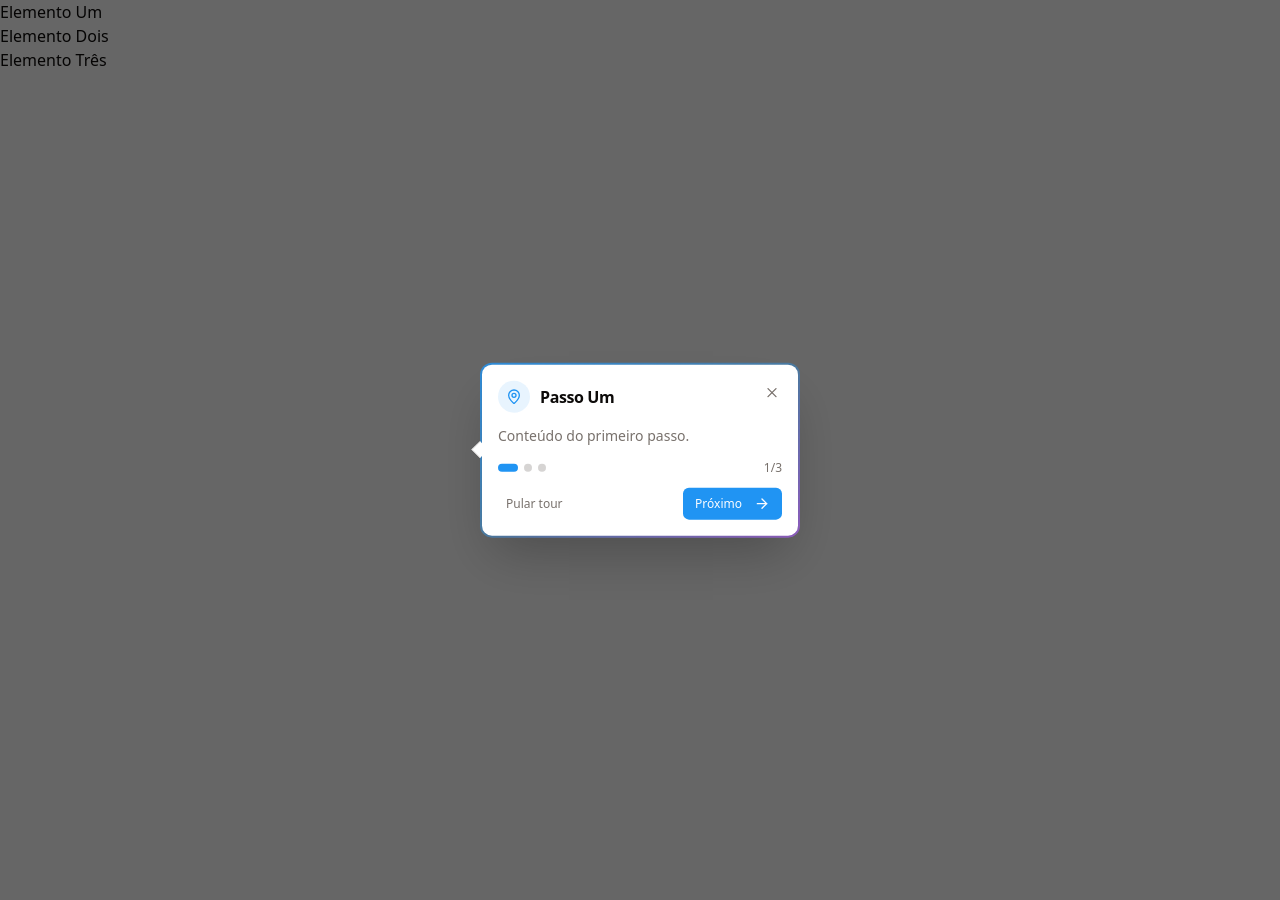
GuidedTour › renders 'Concluir' button on the last step instead of 'Próximo'
What coordinates should you click on to do the following:
click the button with aria-label "próximo passo"
I would click on:
 (733, 503)
Its box is [683,487,782,519].
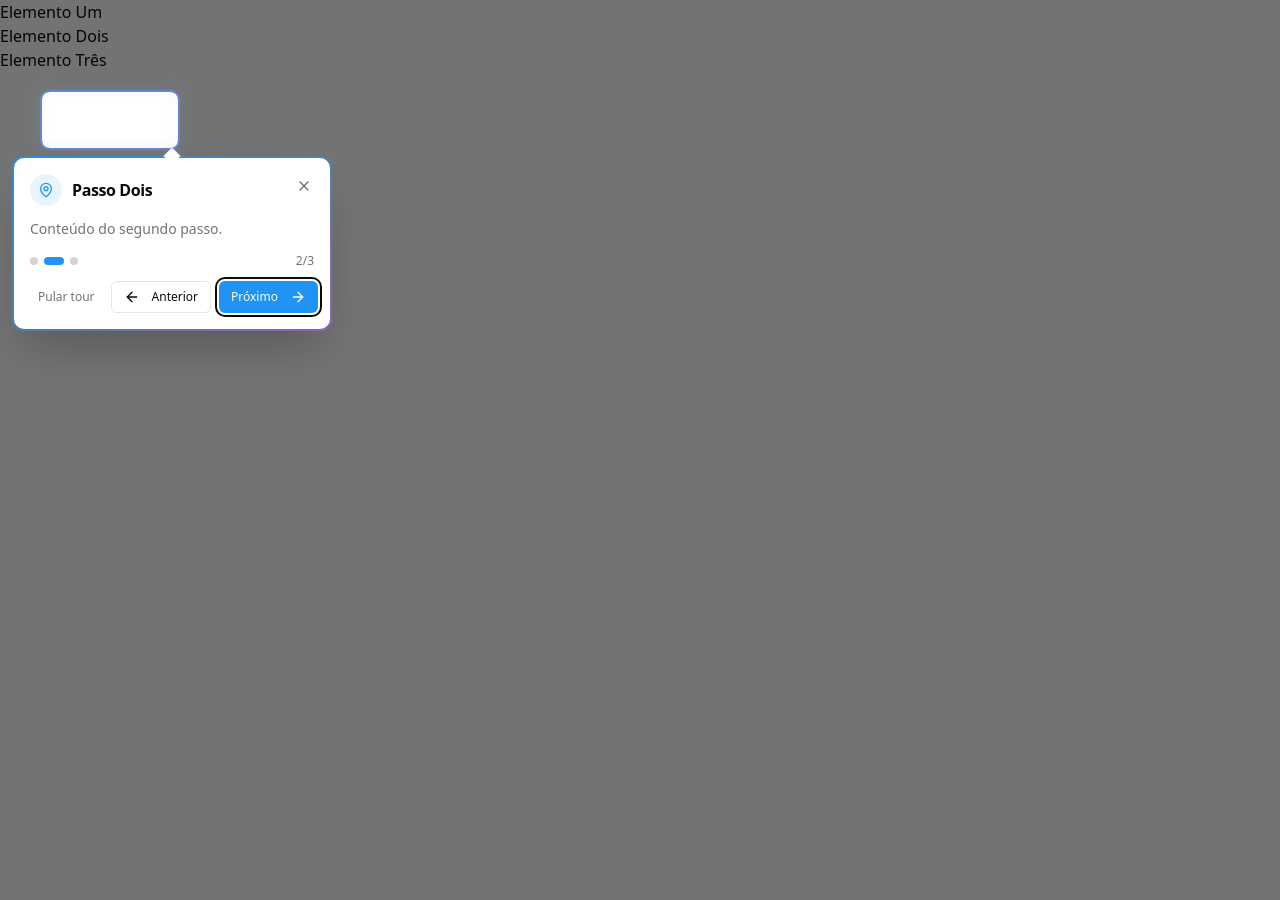
Expected: the text "2/3" is shown, [296,253,314,269]
What coordinates should you click on to do the following:
click the button with aria-label "próximo passo"
I would click on:
 (268, 297)
Its box is [219,281,318,313].
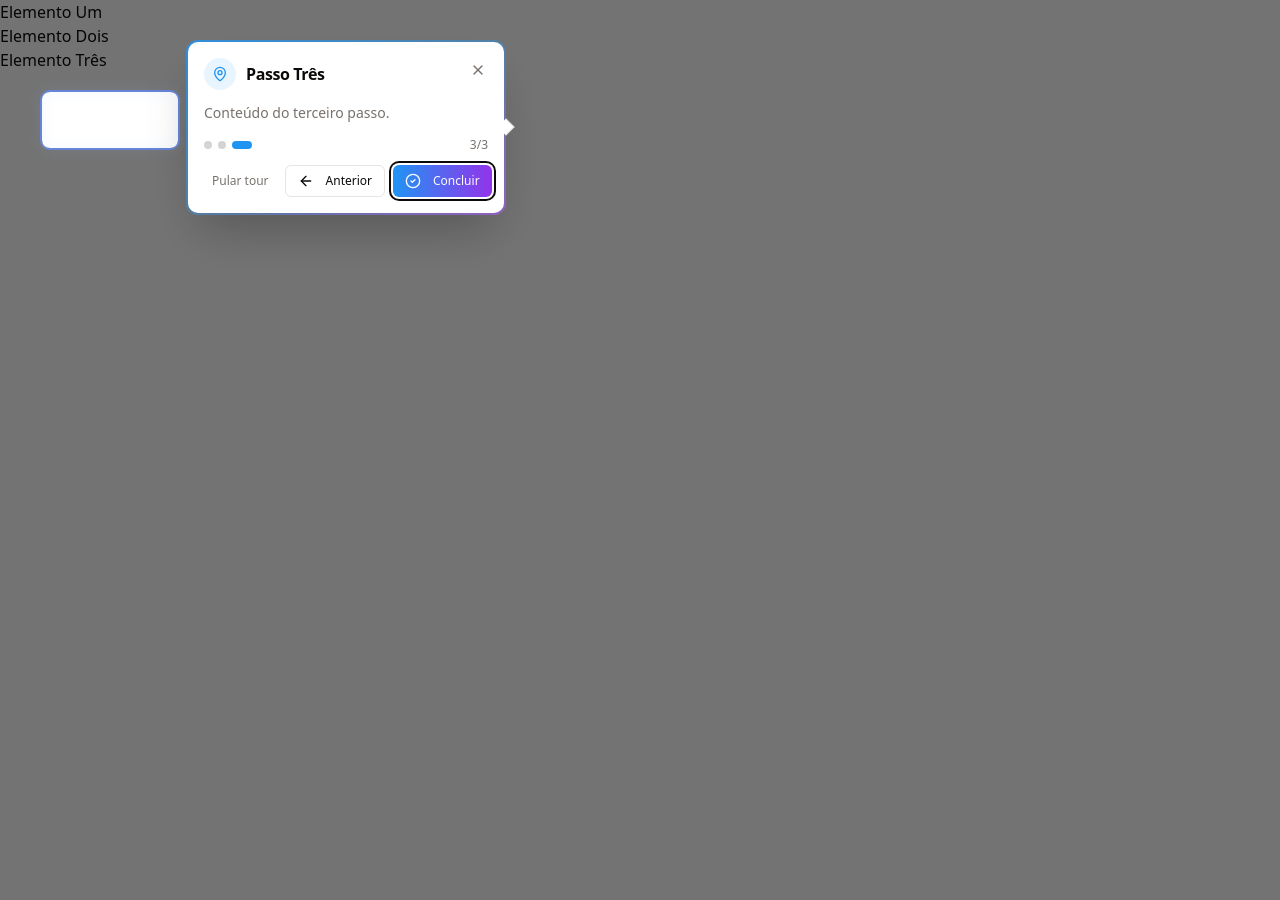
Expected: the button with aria-label "concluir tour" is shown, [393,165,492,197]
